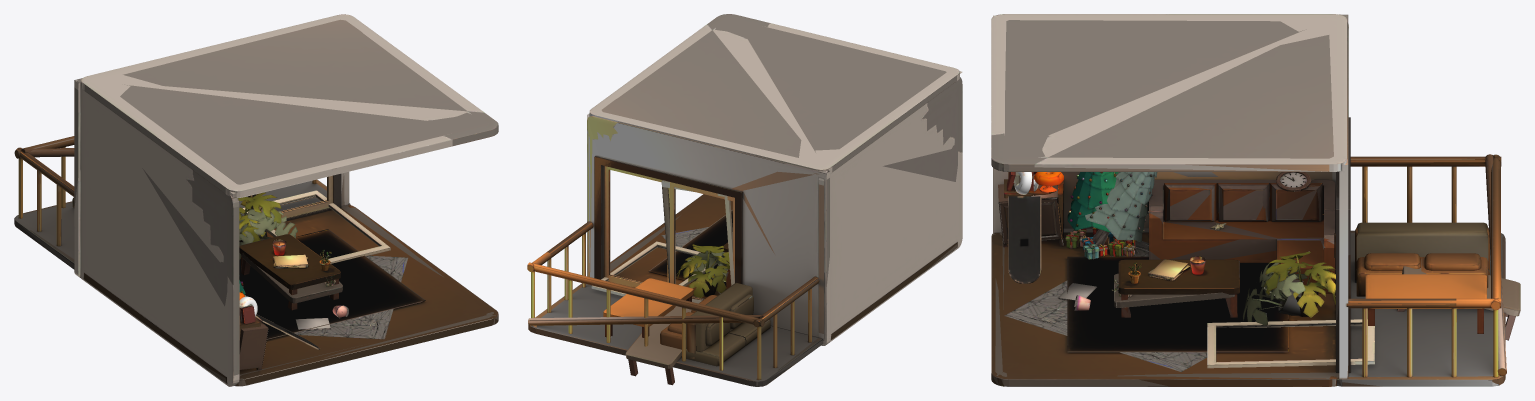
File: room.glb
The picture shows the model from 3 angles, left to right: view 1: azimuth 30°, elevation 25°; view 2: azimuth 150°, elevation 25°; view 3: azimuth 270°, elevation 25°; orthographic projection. The views are drawn at different scales.
Visible parts, largest first — view 1: RoomBefore, RoomAfter; view 2: RoomAfter, RoomBefore; view 3: RoomBefore, RoomAfter.
Part boxes in pixels (x1,y1,x2,y2): RoomBefore: (14,19,498,386); RoomAfter: (14,14,498,386); RoomAfter: (528,23,962,386); RoomBefore: (527,14,962,386); RoomBefore: (991,17,1505,386); RoomAfter: (991,14,1520,386).
Bounding box in the file's own units: 2.02 × 1.51 × 2.98.
2 materials, 2 textured.
